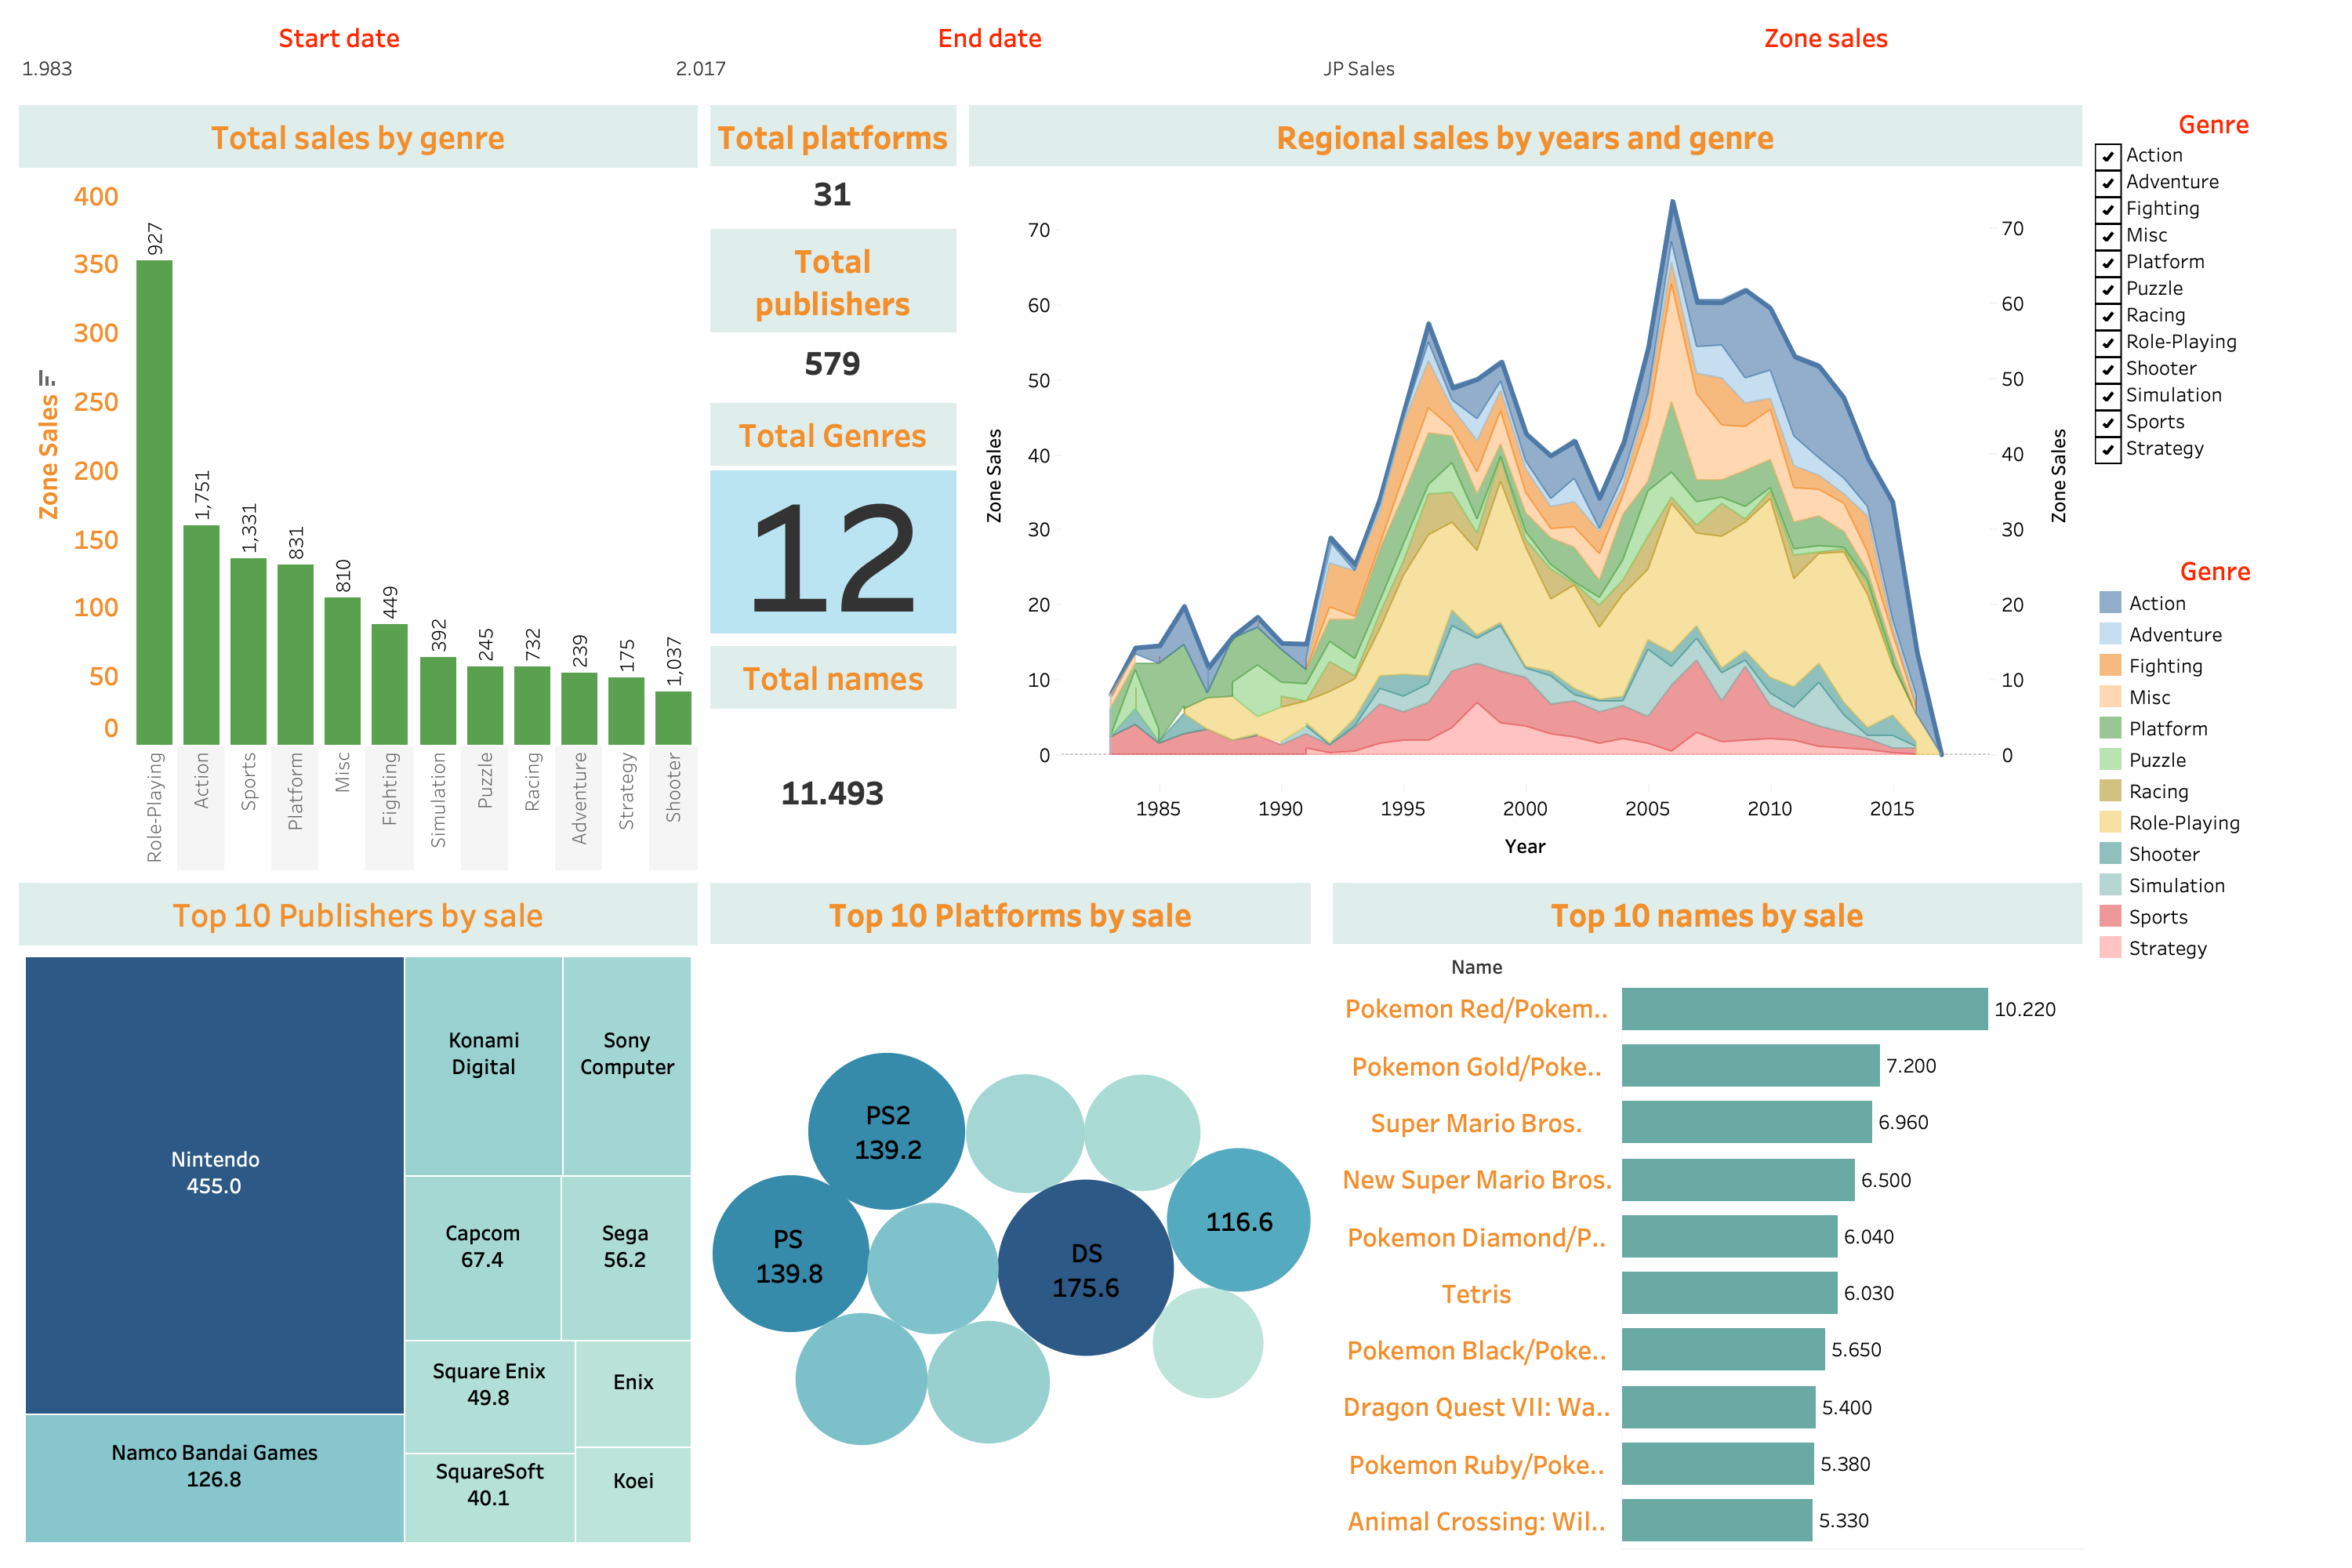

Layout of this report page (visuals, bound fields, positions):
{"tool":"tableau","page":{"name":"Dashboard 1","canvas":[1500,1000],"ordinal":0},"visuals":[{"type":"parameter","param":"[Parameters].[Parameter 2]","box":[8,8,417,55]},{"type":"parameter","param":"[Parameters].[Parameter 3]","box":[425,8,413,55]},{"type":"parameter","param":"[Parameters].[Parameter 1]","box":[838,8,654,55]},{"type":"worksheet","title":"Total sales by genre ","mark":"Automatic","rows":["Calculation_31454832232935424"],"cols":["Genre"],"box":[8,63,441.3,495.7]},{"type":"worksheet","title":"Total platforms ","mark":"Automatic","box":[449.3,63,164.7,79.3]},{"type":"worksheet","title":"Regional sales by years and genre ","mark":"Line","rows":["Calculation_31454832232935424","Calculation_31454832232935424"],"cols":["Year"],"box":[614,63,718,495.7]},{"type":"filter","title":"Regional sales by years and genre ","param":"[federated.0wkfb8q0olhtxv14i73sf1w64h1g].[none:Genre:nk]","box":[1332,63,160,284]},{"type":"worksheet","title":"Total publishers","mark":"Automatic","box":[449.3,142.3,164.7,110.5]},{"type":"worksheet","title":"Total Genres","mark":"Automatic","box":[449.3,252.8,164.7,154.8]},{"type":"legend","title":"Regional sales by years and genre ","param":"[federated.0wkfb8q0olhtxv14i73sf1w64h1g].[none:Genre:nk]","box":[1332,347,160,271]},{"type":"worksheet","title":"Total names","mark":"Automatic","box":[449.3,407.6,164.7,151.1]},{"type":"worksheet","title":"Top 10 Publishers by sale","mark":"Automatic","box":[8,558.6,441,433.4]},{"type":"worksheet","title":"Top 10 Platforms by sale","mark":"Circle","box":[449,558.6,397,433.4]},{"type":"worksheet","title":"Top 10 names by sale","mark":"Automatic","rows":["Name"],"cols":["Calculation_31454832232935424"],"box":[846,558.6,486,433.4]}]}

Visuals, with their boxes in screenshot pixels (x1, y1, x2, y2), scaled from the page's 1500x1000 canvas onto the 2352x1568 screenshot:
parameter: x1=13, y1=13, x2=666, y2=99
parameter: x1=666, y1=13, x2=1314, y2=99
parameter: x1=1314, y1=13, x2=2339, y2=99
"Total sales by genre " worksheet: x1=13, y1=99, x2=705, y2=876
"Total platforms " worksheet: x1=705, y1=99, x2=963, y2=223
"Regional sales by years and genre " worksheet (Line marks): x1=963, y1=99, x2=2089, y2=876
"Regional sales by years and genre " filter: x1=2089, y1=99, x2=2339, y2=544
"Total publishers" worksheet: x1=705, y1=223, x2=963, y2=397
"Total Genres" worksheet: x1=705, y1=397, x2=963, y2=639
"Regional sales by years and genre " legend: x1=2089, y1=544, x2=2339, y2=969
"Total names" worksheet: x1=705, y1=639, x2=963, y2=876
"Top 10 Publishers by sale" worksheet: x1=13, y1=876, x2=704, y2=1555
"Top 10 Platforms by sale" worksheet (Circle marks): x1=704, y1=876, x2=1327, y2=1555
"Top 10 names by sale" worksheet: x1=1327, y1=876, x2=2089, y2=1555
